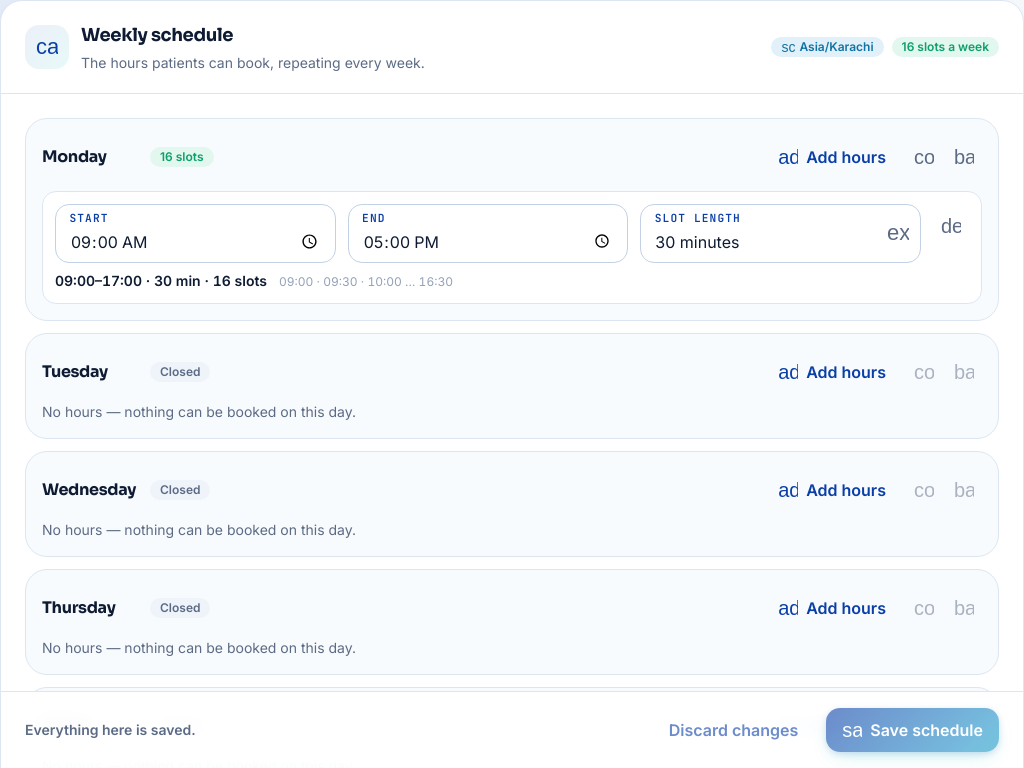
Test: unsaved work › says so, and says patients are still on the old hours
The width and height of the screenshot is (1024, 768).
Expected: the text "Everything here is saved." is shown, [25,721,196,738]
Expected: the button "Save schedule" is disabled, [826,708,999,752]
Step 1. Click the button "Add hours" in the row of "Monday" → [832, 157], box [762,135,902,179]
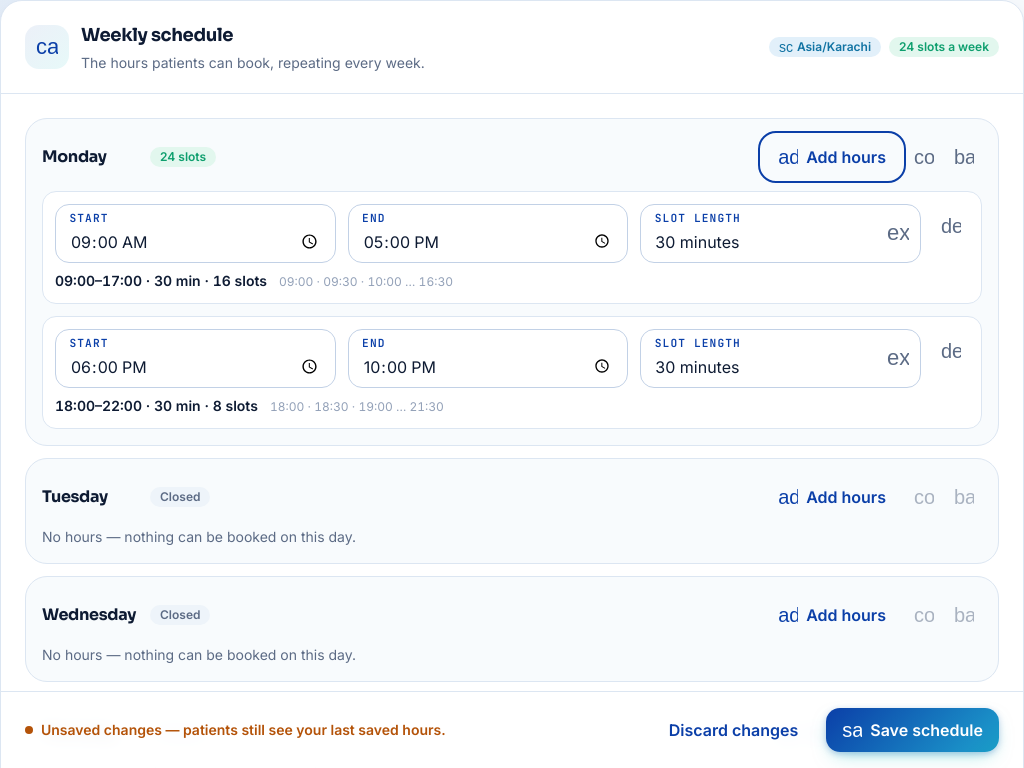
Expected: the text "Unsaved changes — patients still see your last saved hours." is shown, [25,721,446,738]
